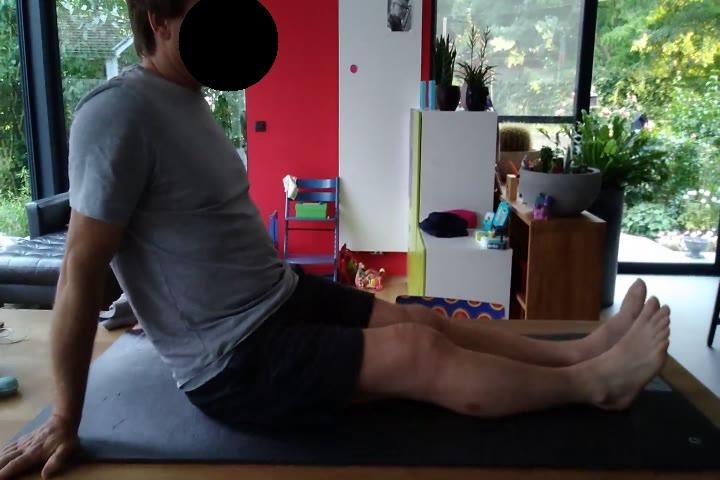lower_body: (184, 278, 675, 422)
